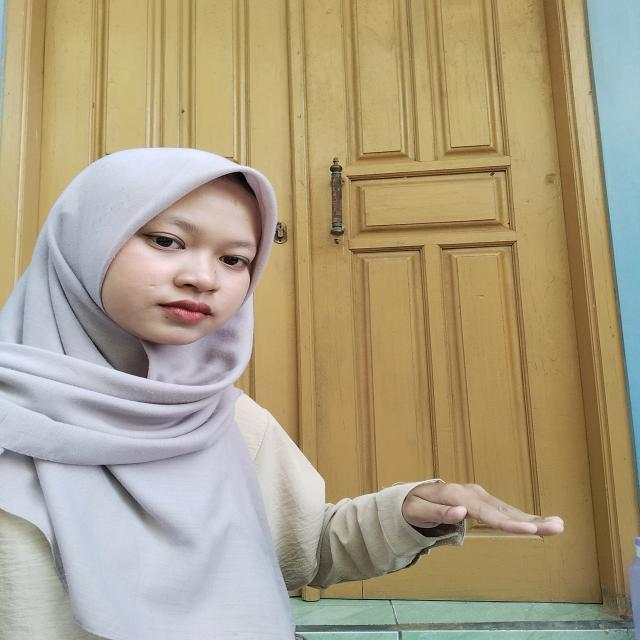adik: (354, 466, 583, 573)
